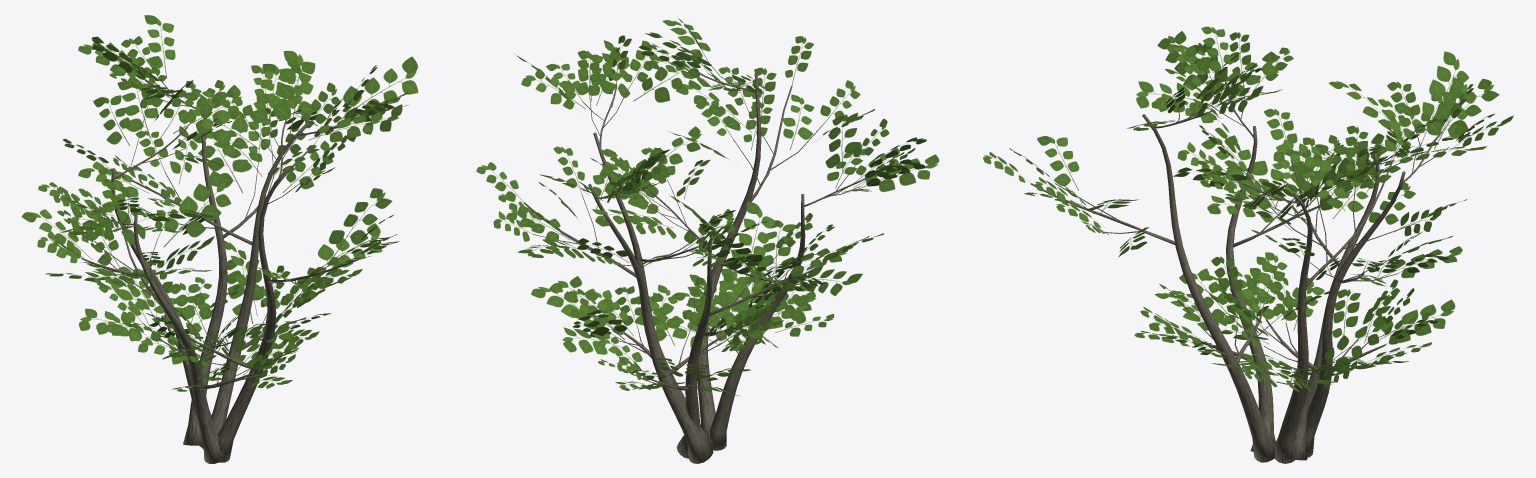
File: hazel.glb
The picture shows the model from 3 angles, left to right: view 1: azimuth 30°, elevation 25°; view 2: azimuth 150°, elevation 25°; view 3: azimuth 270°, elevation 25°; orthographic projection. The views are drawn at different scales.
Parts seen in each view (by area): view 1: SM_Hazel; view 2: SM_Hazel; view 3: SM_Hazel.
Boxes of the visible parts, x1,y1,x2,y2 form: SM_Hazel: (21,15,418,463); SM_Hazel: (476,18,939,463); SM_Hazel: (983,26,1513,463).
Size of the model in its own units: 1.93 by 1.8 by 2.08.
Materials: 1 (1 with a texture image).
